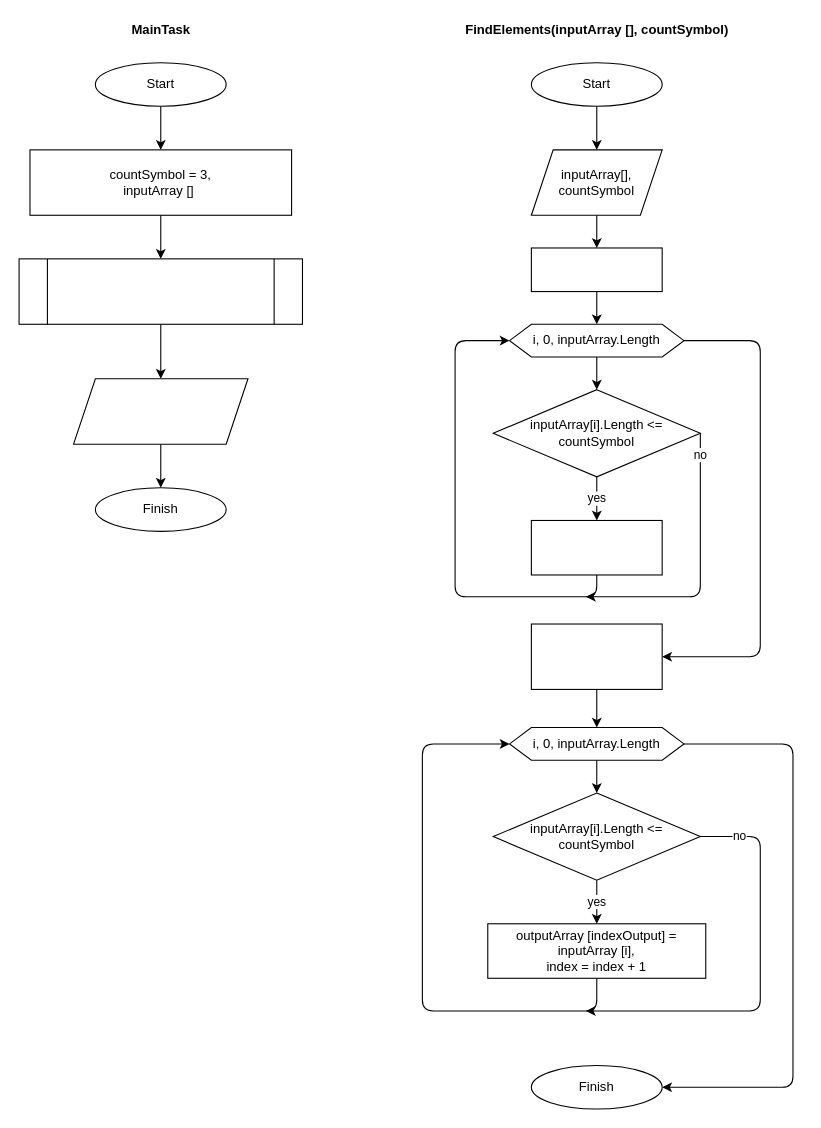
This 821x1128 diagram has some shape labels left out. The shapes that lost their labels are listed below. From the top down, each one's box as (x1, y1, x2, y2) in pixels, then its label:
(530, 247, 662, 292): countOutput = 0
(18, 258, 302, 324): outputArray [] = FindElements(inputArray [], countSymbol)
(72, 378, 248, 444): PrintArray(outputArray)
(530, 519, 662, 575): countOutput = countOutput + 1
(530, 623, 662, 689): outputArray [] = {0..countOutput}, indexOutput = 0
